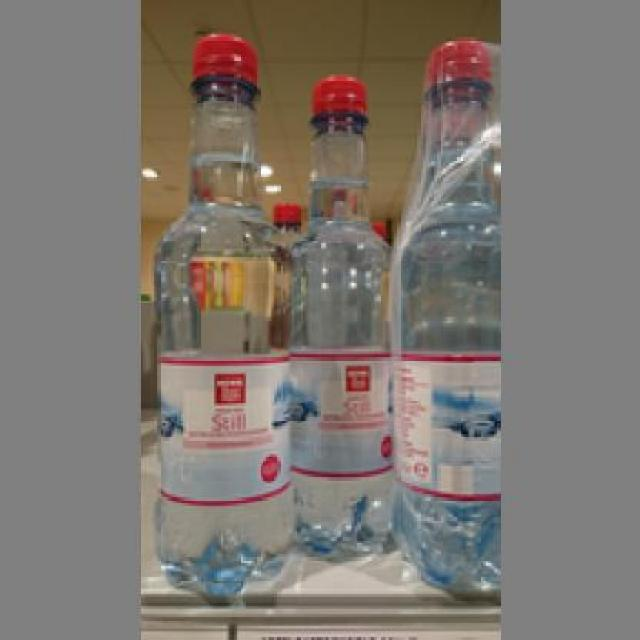Water: (157, 26, 297, 600), (386, 32, 497, 594), (279, 66, 392, 554)
